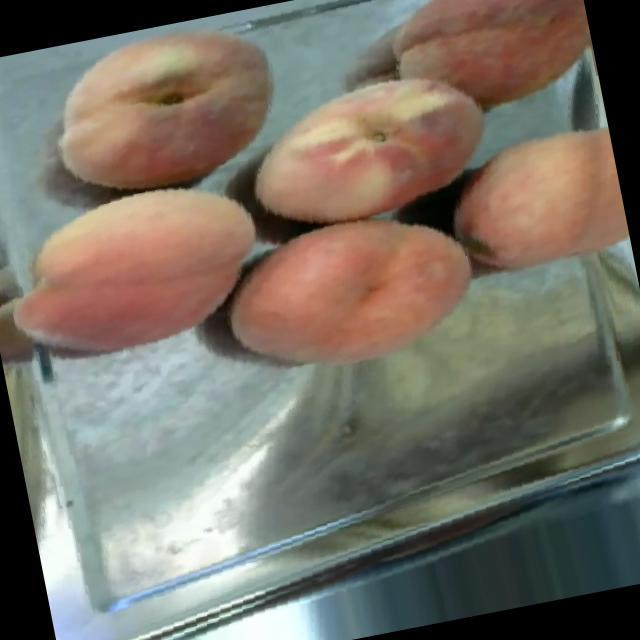Fruit: (0, 149, 296, 398), (199, 194, 505, 406), (26, 3, 306, 221), (221, 38, 515, 242), (426, 103, 638, 312), (366, 0, 603, 142)
